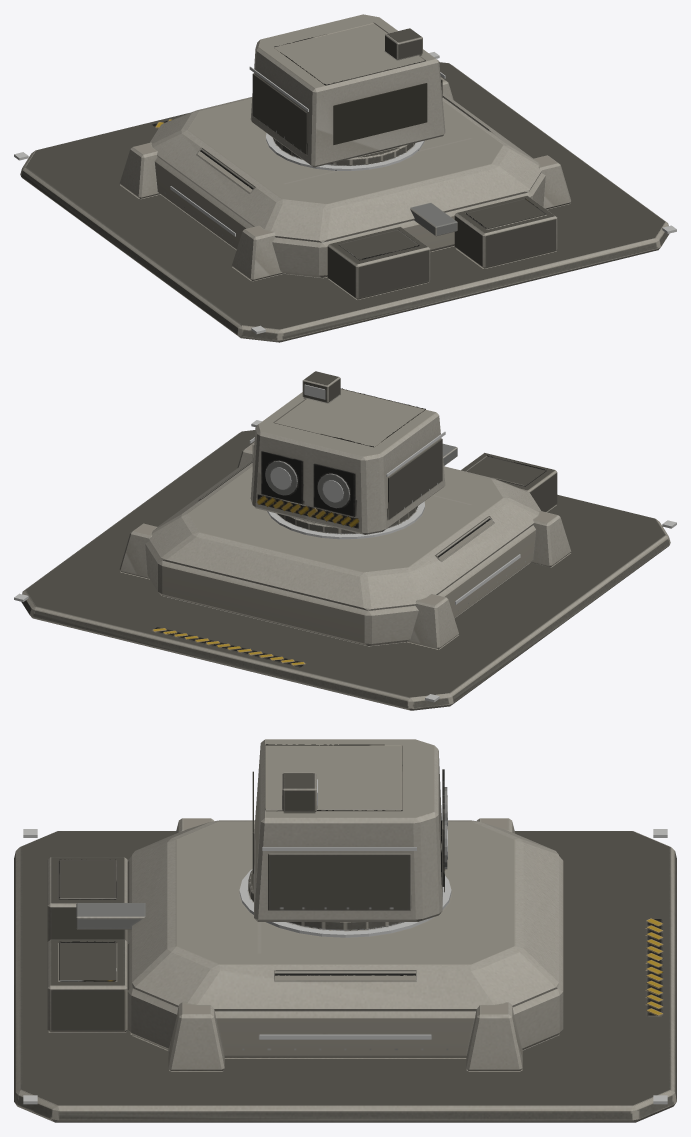
Rendered from ord_sanction.fbx.
3 renders of one model, top to bottom at view 1: azimuth 30°, elevation 25°; view 2: azimuth 150°, elevation 25°; view 3: azimuth 270°, elevation 25°, orthographic. The views are drawn at different scales.
Parts seen in each view (by area): view 1: base_bar, launcher_bar, base_glow_running_bar; view 2: base_bar, launcher_bar, base_glow_running_bar, launcher_glow_weapon_bar, launcher_glow_running_bar; view 3: base_bar, launcher_bar, base_glow_running_bar, launcher_glow_running_bar.
Boxes of the visible parts, left/top/right/bottom form: base_bar: left=20, top=62, right=669, bottom=342; launcher_bar: left=250, top=14, right=445, bottom=167; base_glow_running_bar: left=14, top=52, right=676, bottom=333; base_bar: left=21, top=430, right=670, bottom=710; launcher_bar: left=250, top=371, right=445, bottom=534; base_glow_running_bar: left=14, top=420, right=676, bottom=702; launcher_glow_weapon_bar: left=270, top=467, right=343, bottom=502; launcher_glow_running_bar: left=249, top=384, right=445, bottom=476; base_bar: left=14, top=818, right=676, bottom=1122; launcher_bar: left=248, top=739, right=447, bottom=930; base_glow_running_bar: left=23, top=829, right=667, bottom=1104; launcher_glow_running_bar: left=262, top=779, right=416, bottom=850.
Size of the model in its own units: 2315 by 1085 by 2315.
Materials: 2 (2 with a texture image).
